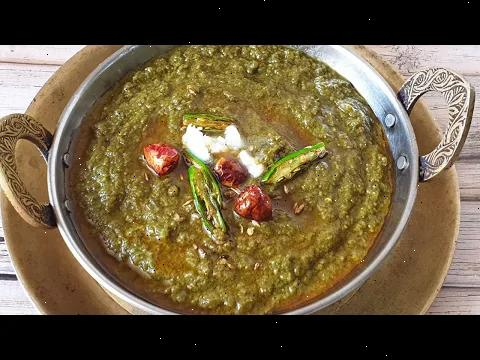saag: (75, 42, 391, 318)
